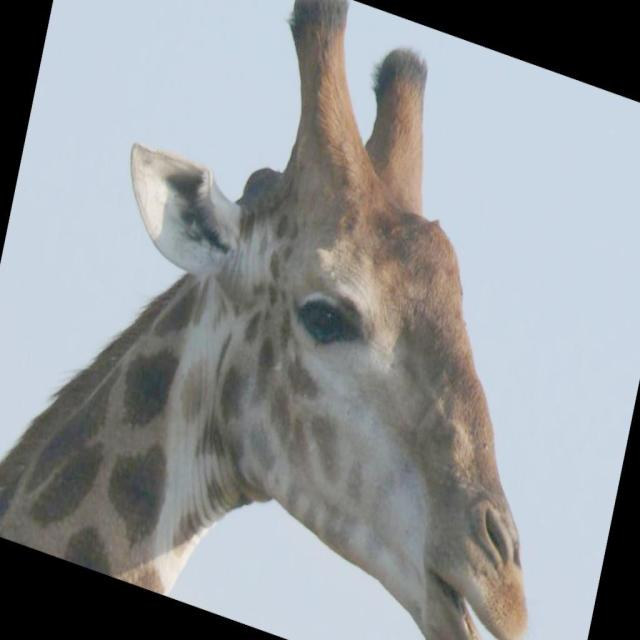Giraffe: (2, 0, 533, 640)
